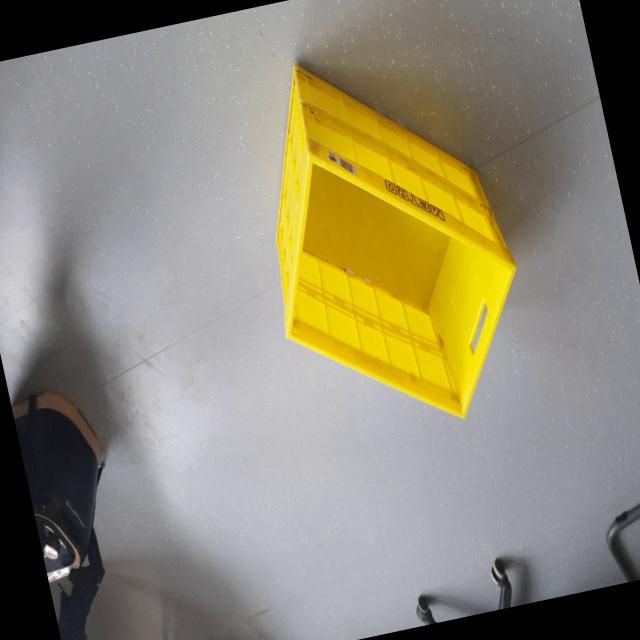box: (223, 18, 554, 471)
